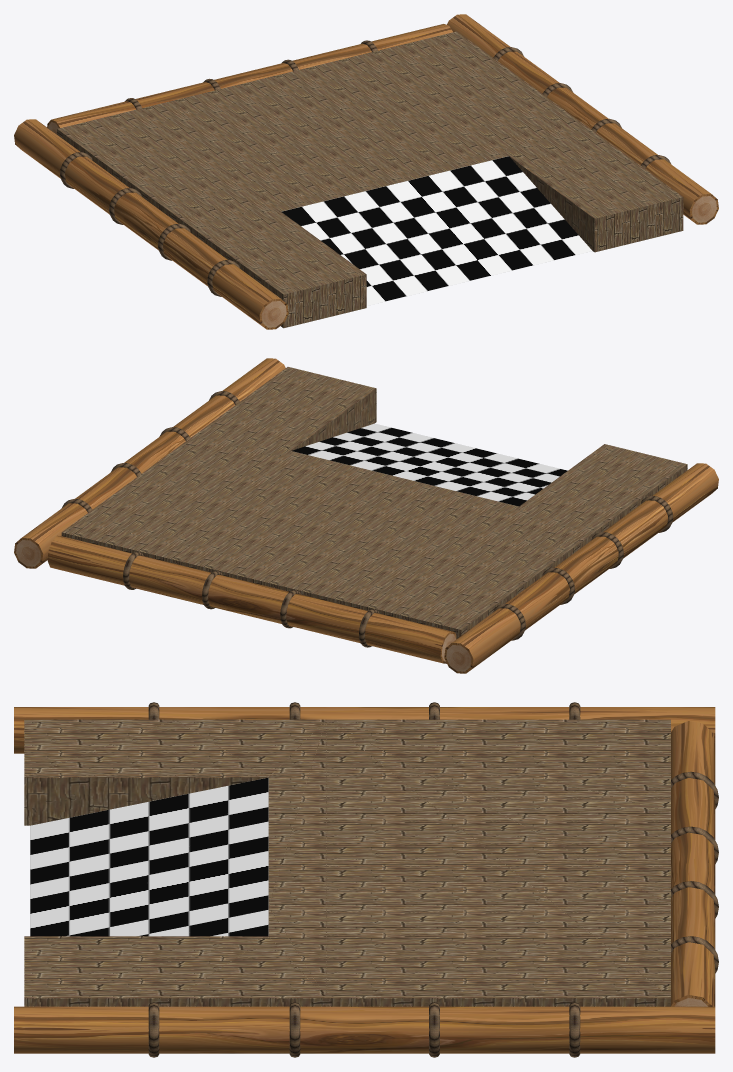
The model's file is OceanWorldGoal.fbx.
3 views of the same model, one above another, from view 1: azimuth 30°, elevation 25°; view 2: azimuth 150°, elevation 25°; view 3: azimuth 270°, elevation 25° (orthographic). The views are drawn at different scales.
Visible parts, largest first — view 1: Box001, Object001, Cylinder001, Cylinder002, Cylinder003; view 2: Box001, Cylinder003, Cylinder001, Object001, Cylinder002; view 3: Box001, Cylinder002, Object001, Cylinder003, Cylinder001.
Part boxes in pixels (x1,y1,x2,y2): Box001: (57, 31, 683, 328); Object001: (281, 156, 592, 305); Cylinder001: (14, 119, 288, 329); Cylinder002: (447, 14, 718, 224); Cylinder003: (47, 24, 452, 134); Box001: (61, 367, 687, 638); Cylinder003: (47, 535, 456, 663); Cylinder001: (444, 463, 718, 673); Object001: (292, 423, 567, 506); Cylinder002: (14, 358, 285, 568); Box001: (24, 719, 670, 1006); Cylinder002: (14, 1002, 715, 1057); Object001: (30, 777, 268, 936); Cylinder003: (671, 721, 718, 1006); Cylinder001: (14, 702, 715, 753).
Bounding box in the file's own units: 142 × 11.03 × 131.
5 materials, 5 textured.
